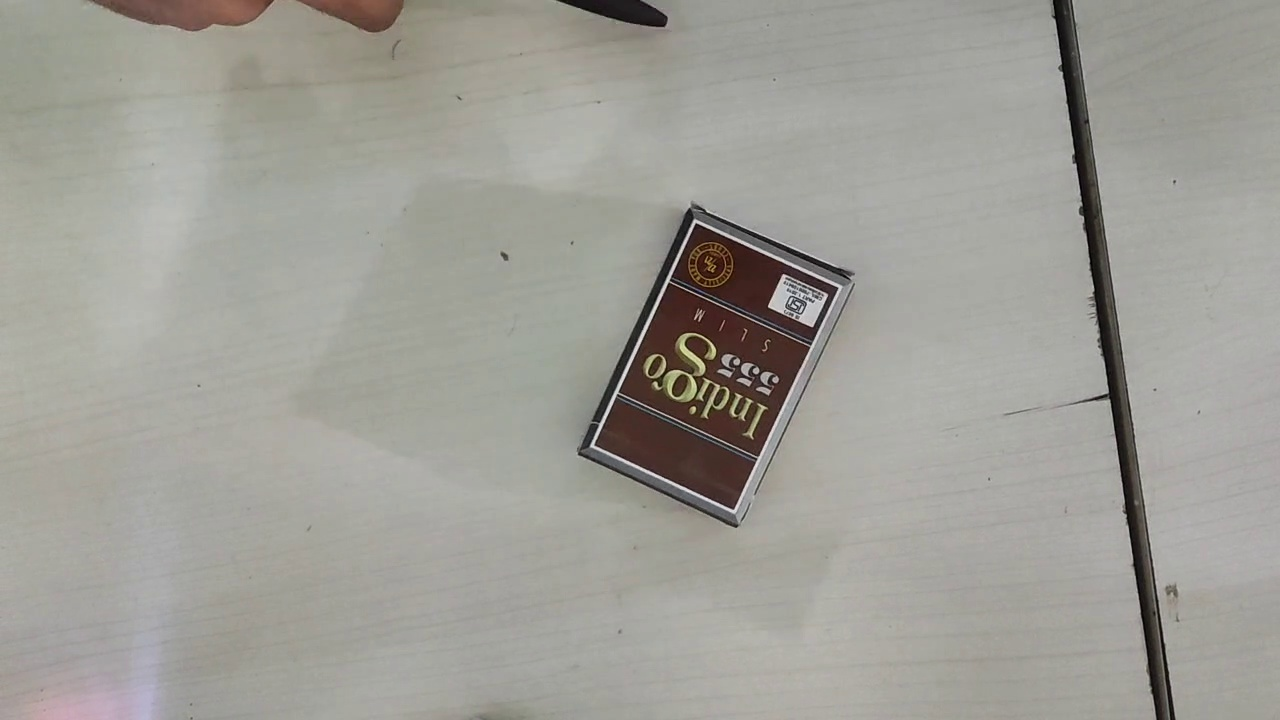BEX: (593, 224, 844, 515)
